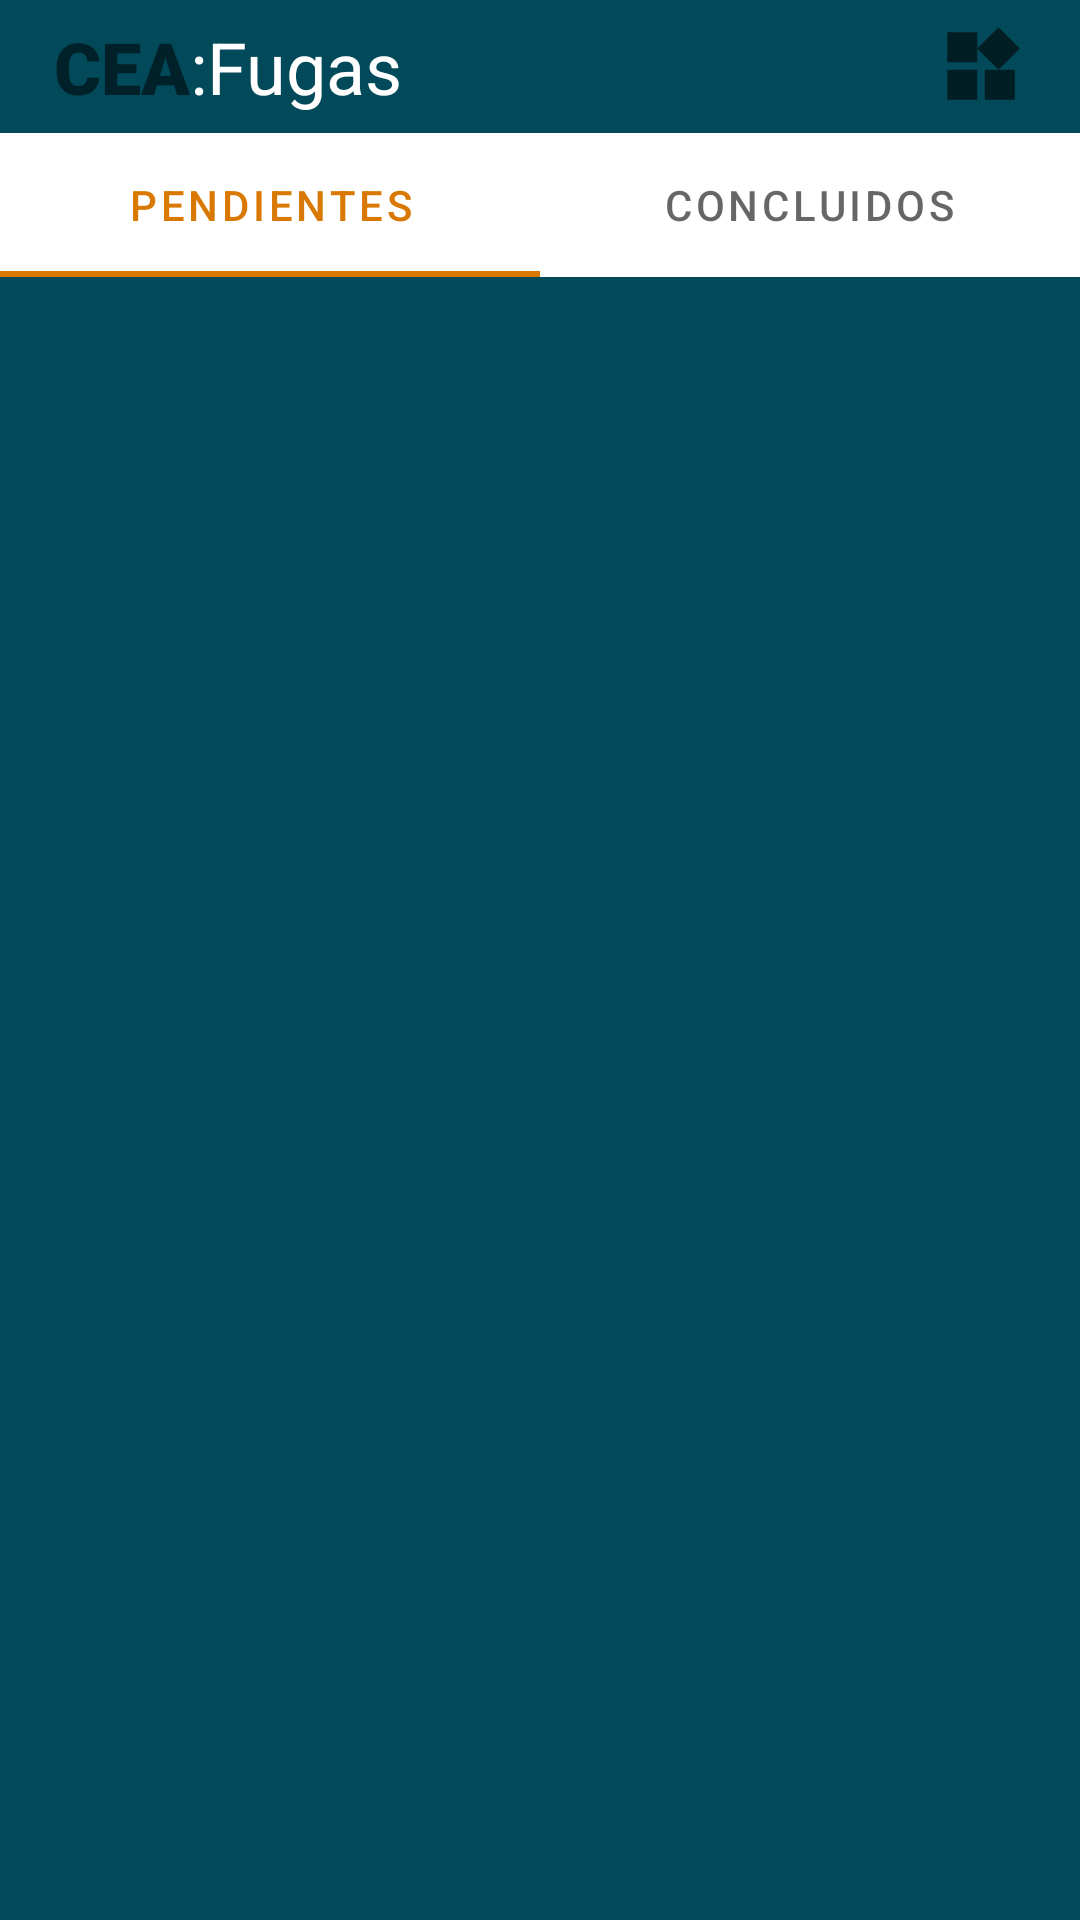

Point at icon controls on the screen. Image size 1080*1920, points as point (x, y).
opciones: point (983, 63)
